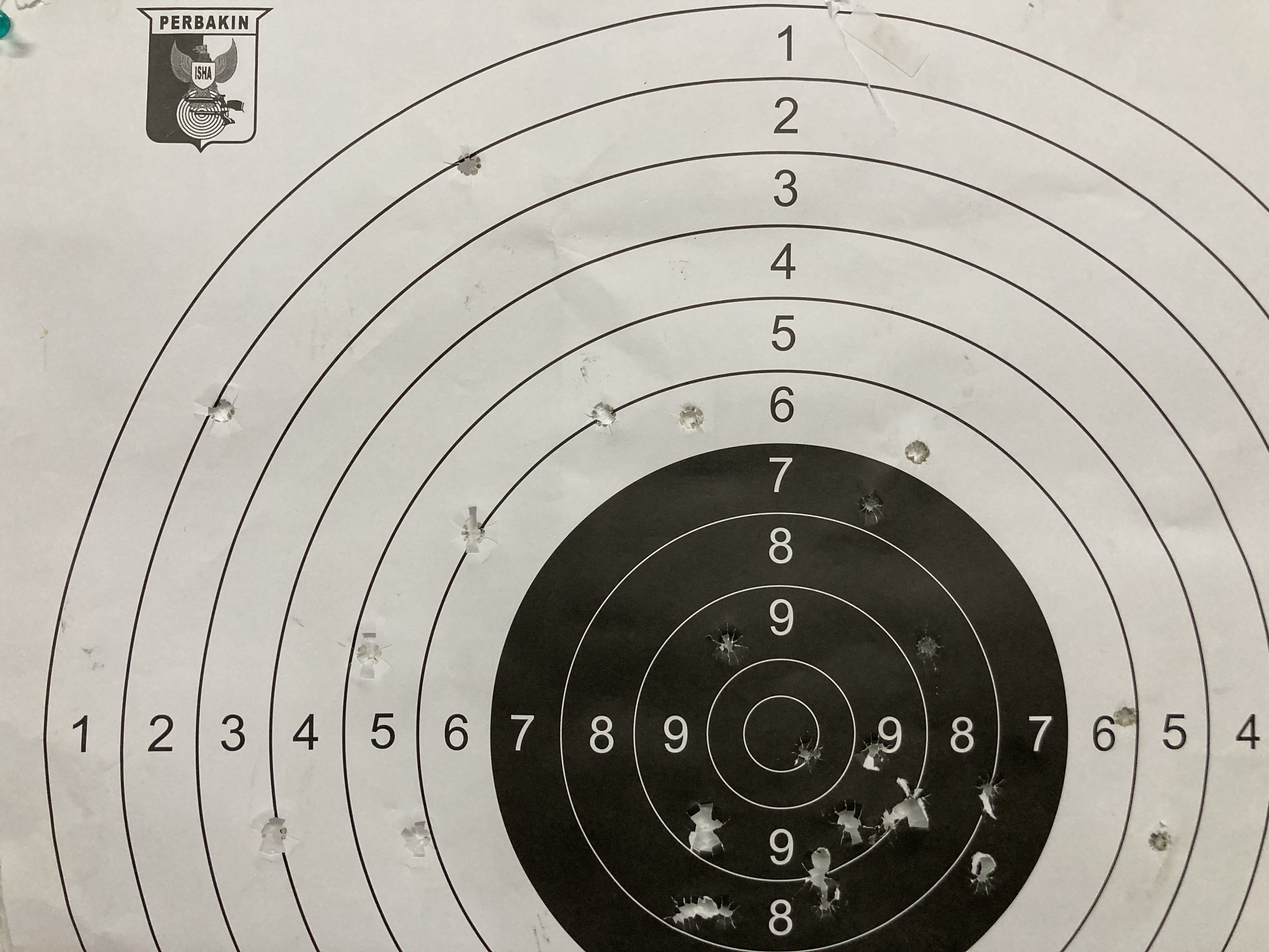hole: (664, 881, 743, 942), (963, 844, 1017, 907), (884, 785, 940, 843), (391, 811, 447, 867), (435, 136, 493, 185), (675, 806, 732, 855), (578, 392, 627, 446), (253, 806, 302, 857), (199, 388, 245, 439), (816, 802, 876, 841), (703, 621, 750, 668), (353, 633, 398, 680), (669, 397, 715, 441), (898, 428, 938, 477), (856, 732, 900, 776), (912, 626, 949, 678), (456, 510, 498, 554), (972, 773, 1007, 820), (792, 732, 832, 773), (799, 848, 844, 883), (1148, 818, 1183, 862), (802, 890, 849, 921), (858, 488, 890, 528), (1110, 699, 1139, 734)
